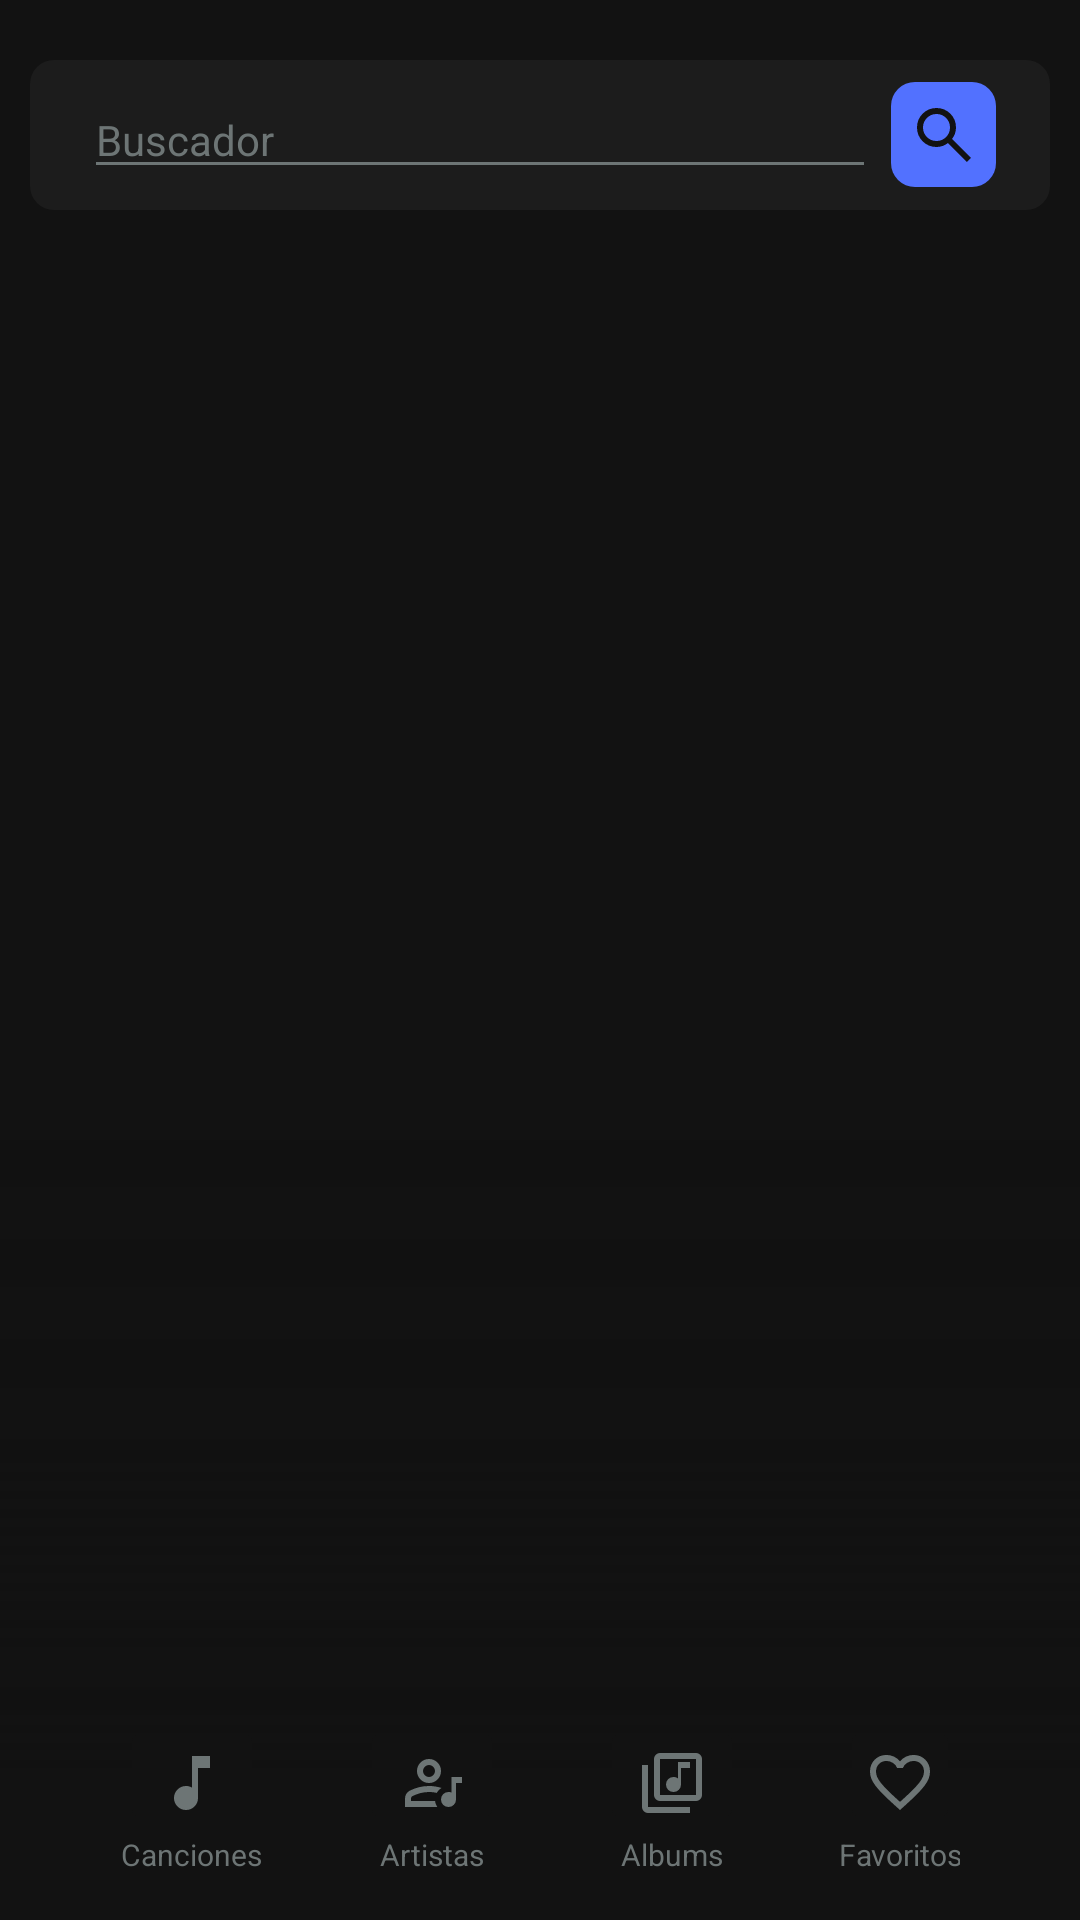

Point at icon controls on the screen. Image size 1080x1920, points as point (x, y).
search: point (943, 134)
